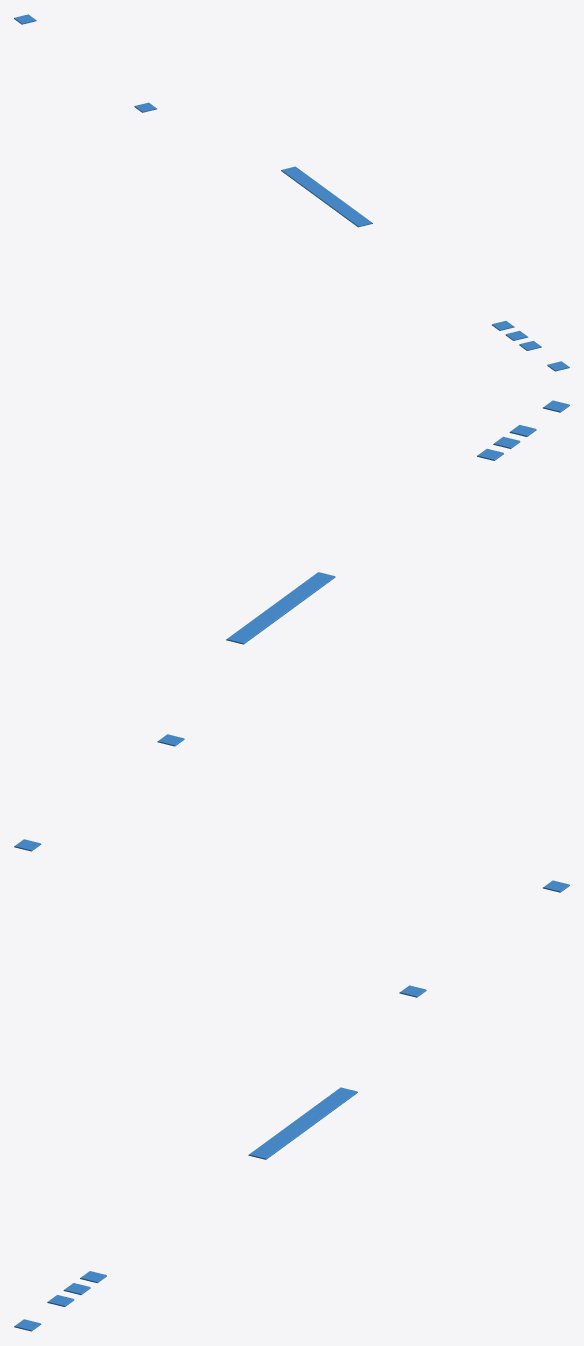
File: K2_Blue_Floor.fbx
3 renders of one model, top to bottom at view 1: azimuth 30°, elevation 25°; view 2: azimuth 150°, elevation 25°; view 3: azimuth 330°, elevation 25°, orthographic. The views are drawn at different scales.
Parts seen in each view (by area): view 1: Jump_Medium.016; view 2: Jump_Medium.016; view 3: Jump_Medium.016.
Boxes of the visible parts, x1,y1,x2,y2 form: Jump_Medium.016: (14,14,569,371); Jump_Medium.016: (14,400,569,851); Jump_Medium.016: (14,880,569,1331).
Size of the model in its own units: 1200 by 20 by 17400.
